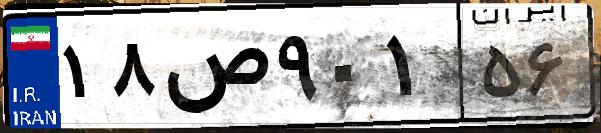0: (330, 28, 385, 110)
1: (385, 28, 445, 110), (57, 26, 110, 100)
5: (475, 38, 525, 113)
6: (525, 38, 570, 115)
8: (110, 28, 158, 98)
9: (270, 28, 330, 110)
ص: (158, 20, 270, 120)
